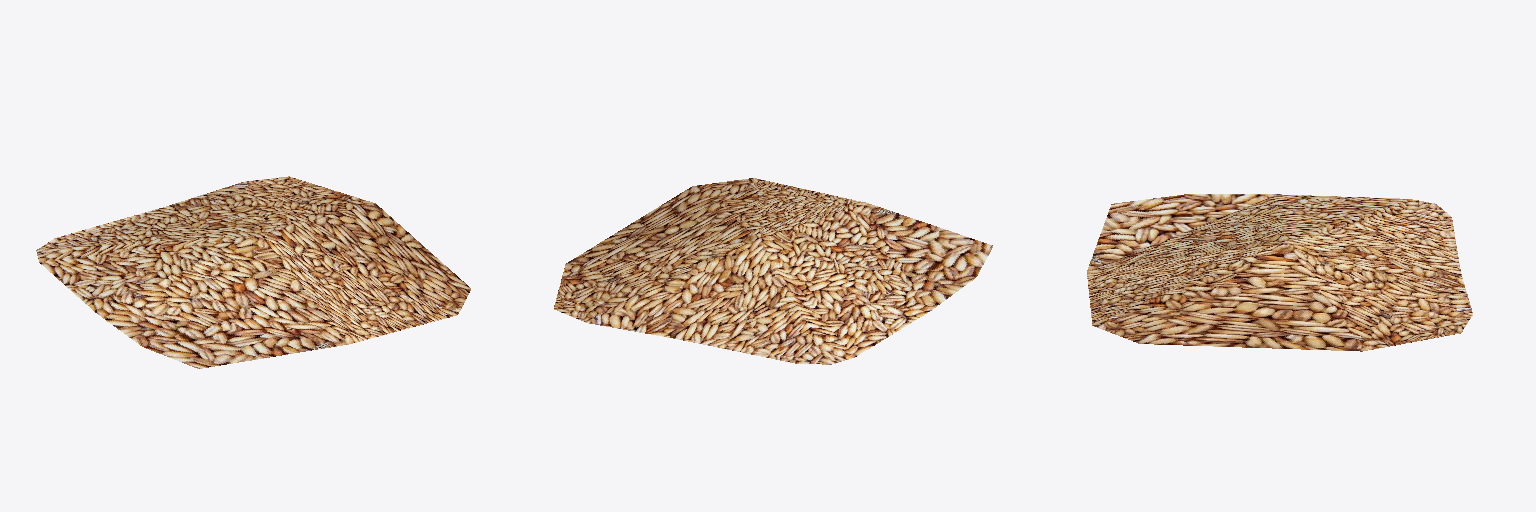
3 views of the same model, side by side, from view 1: azimuth 30°, elevation 25°; view 2: azimuth 150°, elevation 25°; view 3: azimuth 270°, elevation 25° (orthographic).
Visible parts, largest first — view 1: Mesh; view 2: Mesh; view 3: Mesh.
Boxes of the visible parts, x1=… form: Mesh: x1=36, y1=176, x2=470, y2=368; Mesh: x1=554, y1=178, x2=992, y2=364; Mesh: x1=1087, y1=194, x2=1472, y2=351.
Bounding box in the file's own units: 3288 × 331 × 3415.
Materials: 1 (1 with a texture image).